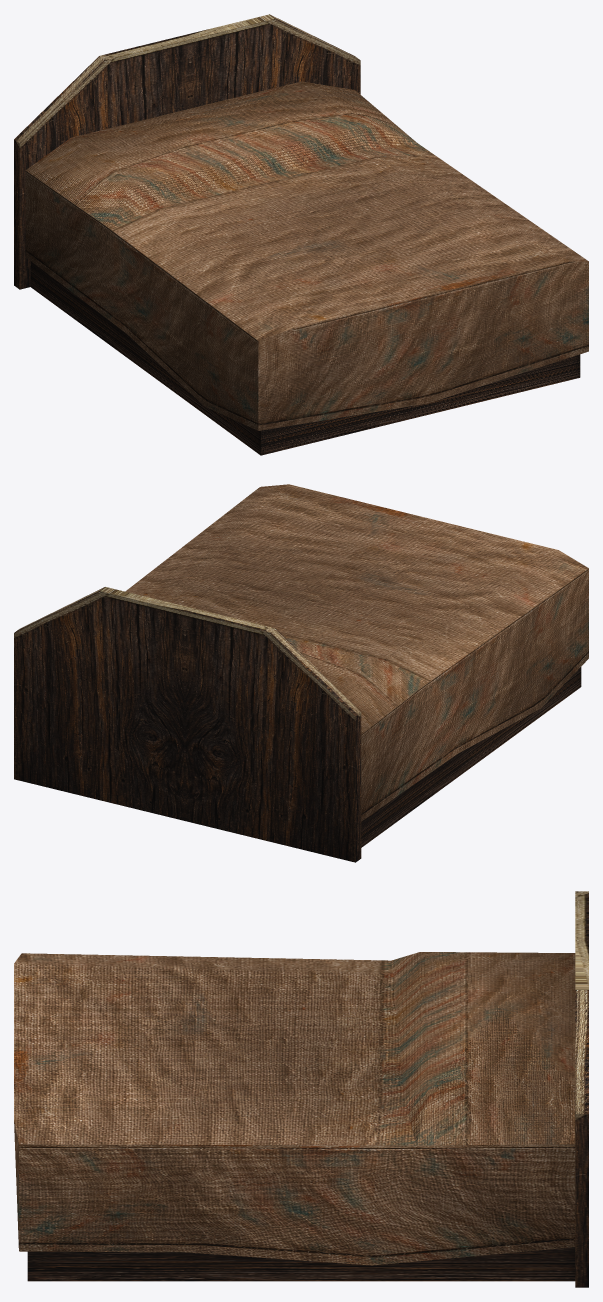
The model's file is mm9_deco_bed.glb.
3 views of the same model, one above another, from view 1: azimuth 30°, elevation 25°; view 2: azimuth 150°, elevation 25°; view 3: azimuth 270°, elevation 25° (orthographic). The views are drawn at different scales.
Parts seen in each view (by area): view 1: Bed; view 2: Bed; view 3: Bed.
Boxes of the visible parts, x1=… form: Bed: x1=14, y1=14, x2=588, y2=455; Bed: x1=14, y1=484, x2=588, y2=862; Bed: x1=14, y1=891, x2=588, y2=1287.
Bounding box in the file's own units: 2.14 × 1.25 × 2.63.
1 material, 1 textured.
